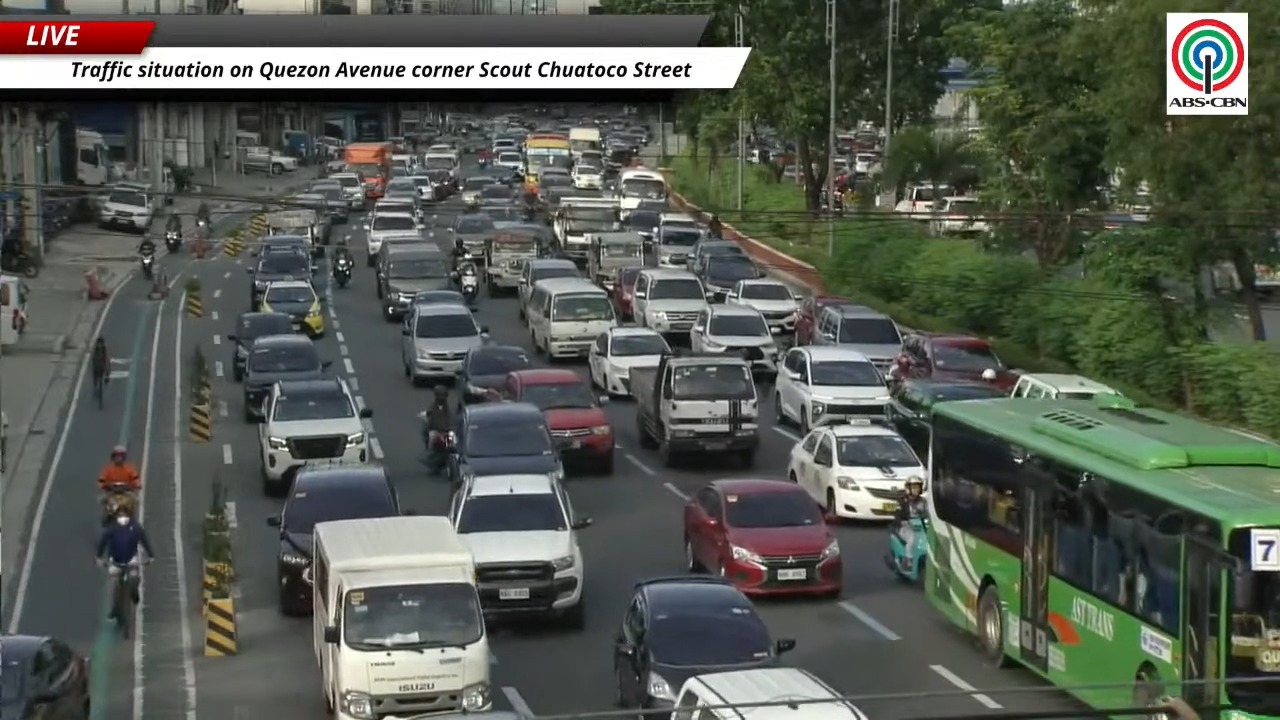bus: (924, 394, 1279, 719), (523, 133, 571, 188)
car: (613, 576, 795, 711), (449, 474, 591, 628), (267, 462, 400, 615), (683, 478, 842, 596), (788, 418, 925, 519), (259, 377, 371, 495), (503, 368, 614, 474), (774, 346, 889, 434), (448, 402, 562, 485), (886, 378, 1005, 456), (242, 334, 329, 422), (0, 634, 90, 719), (401, 304, 487, 384), (902, 333, 1017, 392), (689, 304, 777, 374), (812, 306, 903, 372), (376, 242, 451, 320), (588, 327, 670, 396), (633, 267, 707, 338), (226, 311, 293, 381), (458, 345, 532, 403), (247, 245, 312, 309), (725, 278, 799, 334), (517, 258, 581, 319), (257, 280, 324, 337), (363, 207, 421, 266), (794, 295, 854, 344), (445, 212, 494, 262), (99, 187, 153, 232), (650, 224, 702, 268), (688, 235, 749, 272), (379, 176, 422, 220), (308, 180, 348, 223), (611, 266, 642, 320), (326, 172, 366, 210), (251, 234, 311, 257), (476, 202, 525, 230), (419, 168, 455, 201), (405, 174, 436, 212), (623, 209, 660, 240), (460, 176, 498, 204), (409, 289, 465, 307), (571, 162, 602, 189), (478, 182, 516, 204), (494, 149, 523, 172)
motorcycle: (885, 517, 928, 582), (418, 411, 455, 475), (101, 483, 135, 524), (0, 248, 38, 278), (458, 266, 478, 304), (332, 256, 352, 287), (140, 252, 155, 281), (165, 230, 182, 253), (197, 218, 209, 237)
truck: (304, 516, 491, 719), (629, 353, 759, 467), (553, 196, 619, 265), (343, 141, 393, 199), (267, 209, 327, 256), (75, 127, 116, 186), (240, 147, 298, 175), (569, 127, 602, 160)
